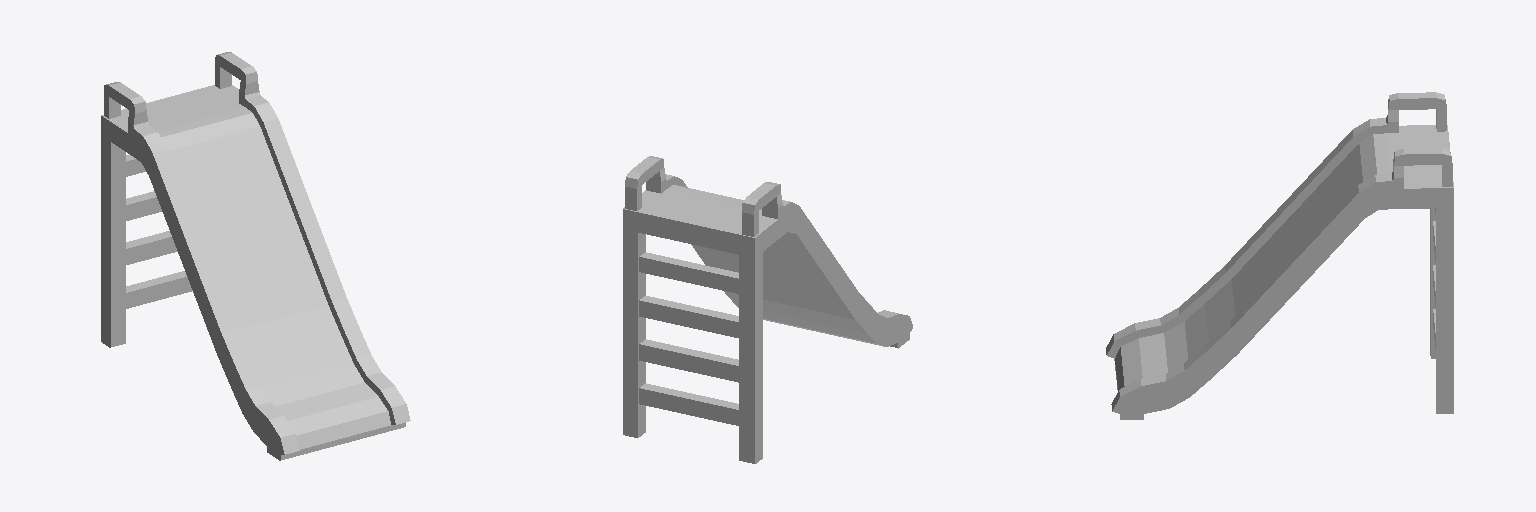
The model's file is slide.obj.
The picture shows the model from 3 angles: view 1: azimuth 30°, elevation 25°; view 2: azimuth 150°, elevation 25°; view 3: azimuth 270°, elevation 25°; orthographic projection.
Visible parts, largest first — view 1: pCube1_blinn2_0; view 2: pCube1_blinn2_0; view 3: pCube1_blinn2_0.
Part boxes in pixels (x1,y1,x2,y2): pCube1_blinn2_0: (101,52,410,460); pCube1_blinn2_0: (623,156,912,463); pCube1_blinn2_0: (1106,92,1453,419).
Size of the model in its own units: 59.98 by 105 by 127.